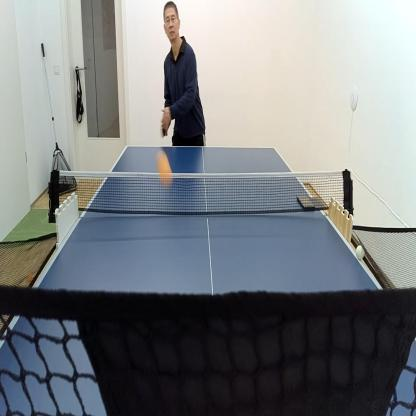Ball: (156, 150, 173, 190), (355, 243, 366, 263)
